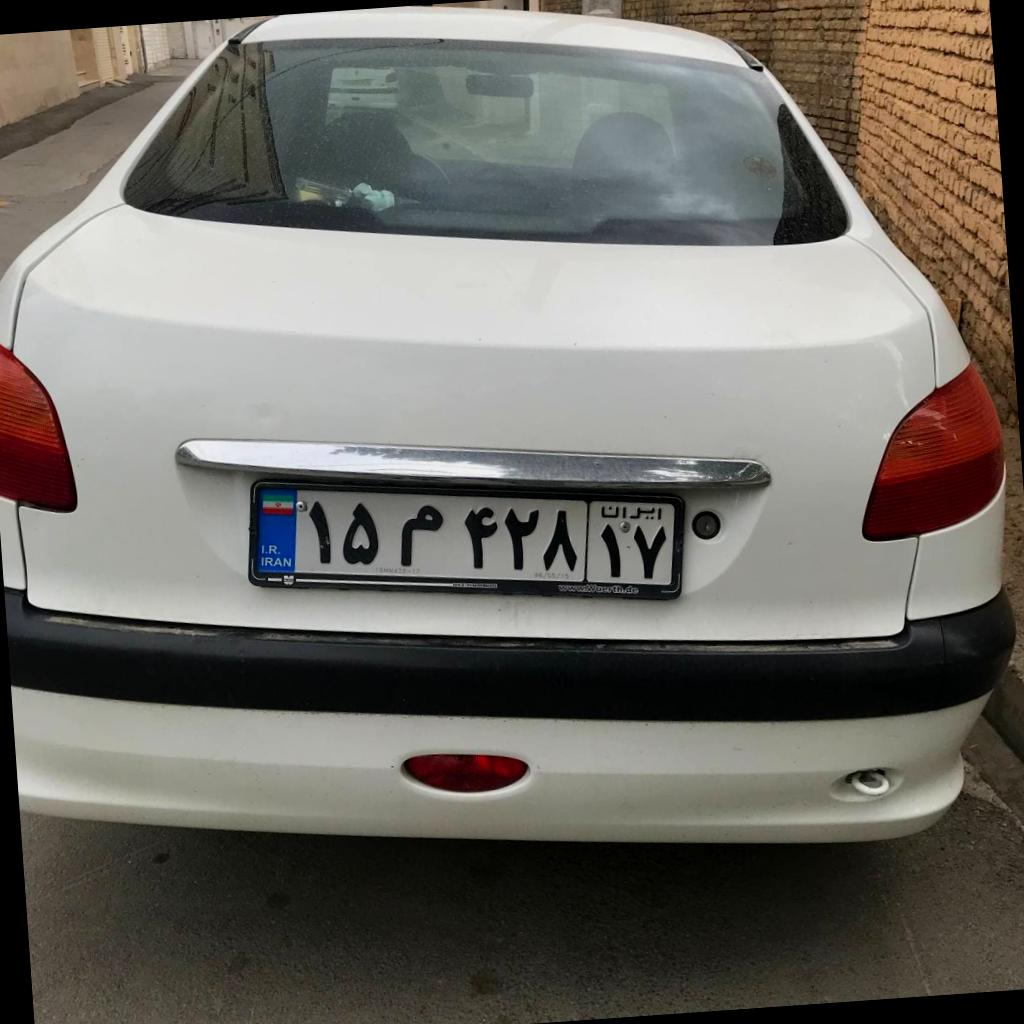Plates: (254, 488, 674, 586)
